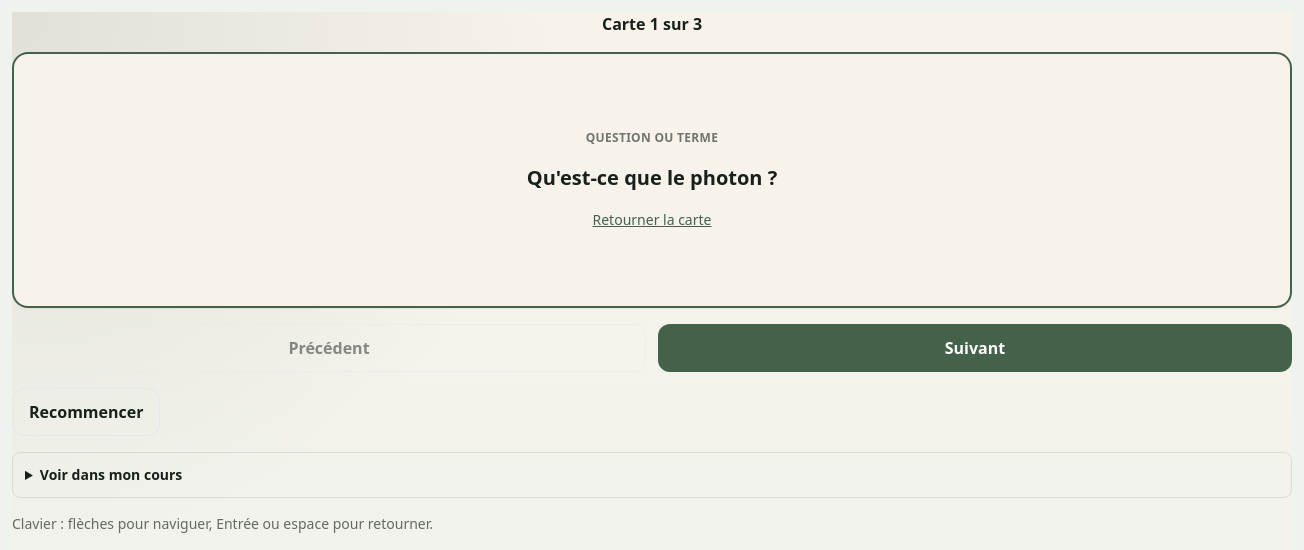
FlashcardDeck › passe à la carte suivante
The image size is (1304, 550).
Click the button "Suivant".
click(975, 348)  # box [658,324,1292,372]
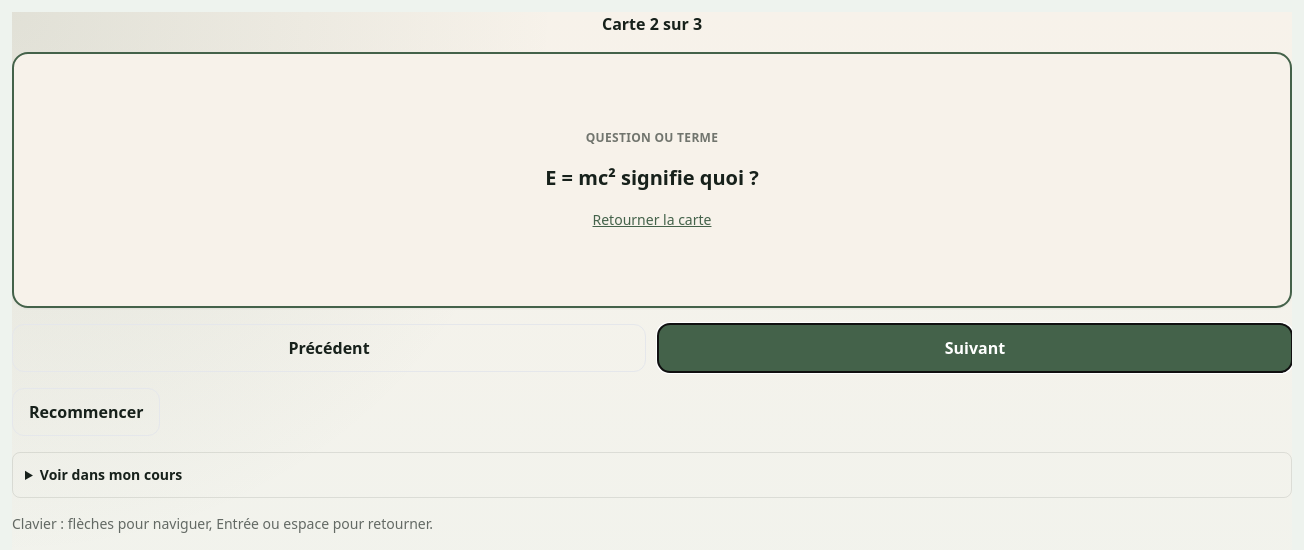
Check: the text "Carte 2 sur 3" is shown, box [602,13,702,35]
Check: the text "E = mc² signifie quoi ?" is shown, box [545,162,759,194]
